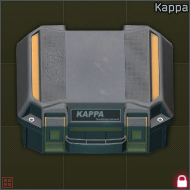Secure container Kappa: (0, 0, 190, 190)
